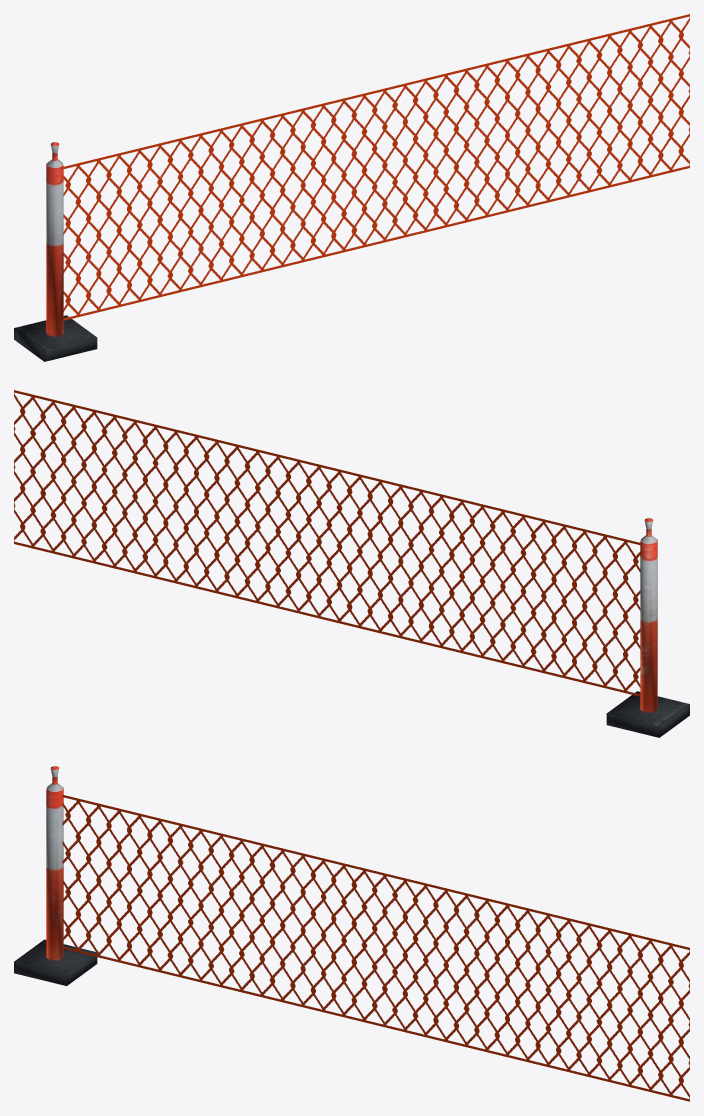
Rendered from orangeFence_flat_1.fbx.
The picture shows the model from 3 angles, top to bottom: view 1: azimuth 30°, elevation 25°; view 2: azimuth 150°, elevation 25°; view 3: azimuth 330°, elevation 25°; orthographic projection.
Visible parts, largest first — view 1: Plane01, Duplicate01, Cylinder02, Box03; view 2: Plane01, Duplicate01, Cylinder02, Box03; view 3: Plane01, Duplicate01, Cylinder02, Box03.
Boxes of the visible parts, x1,y1,x2,y2 form: Plane01: (63, 14, 689, 320); Duplicate01: (63, 15, 689, 320); Cylinder02: (46, 142, 63, 336); Box03: (14, 315, 97, 361); Plane01: (14, 390, 640, 696); Duplicate01: (14, 391, 640, 696); Cylinder02: (640, 518, 657, 712); Box03: (606, 691, 689, 737); Plane01: (62, 795, 689, 1101); Duplicate01: (62, 796, 689, 1100); Cylinder02: (46, 766, 63, 960); Box03: (14, 939, 97, 985).
Size of the model in its own units: 375 by 109 by 30.
